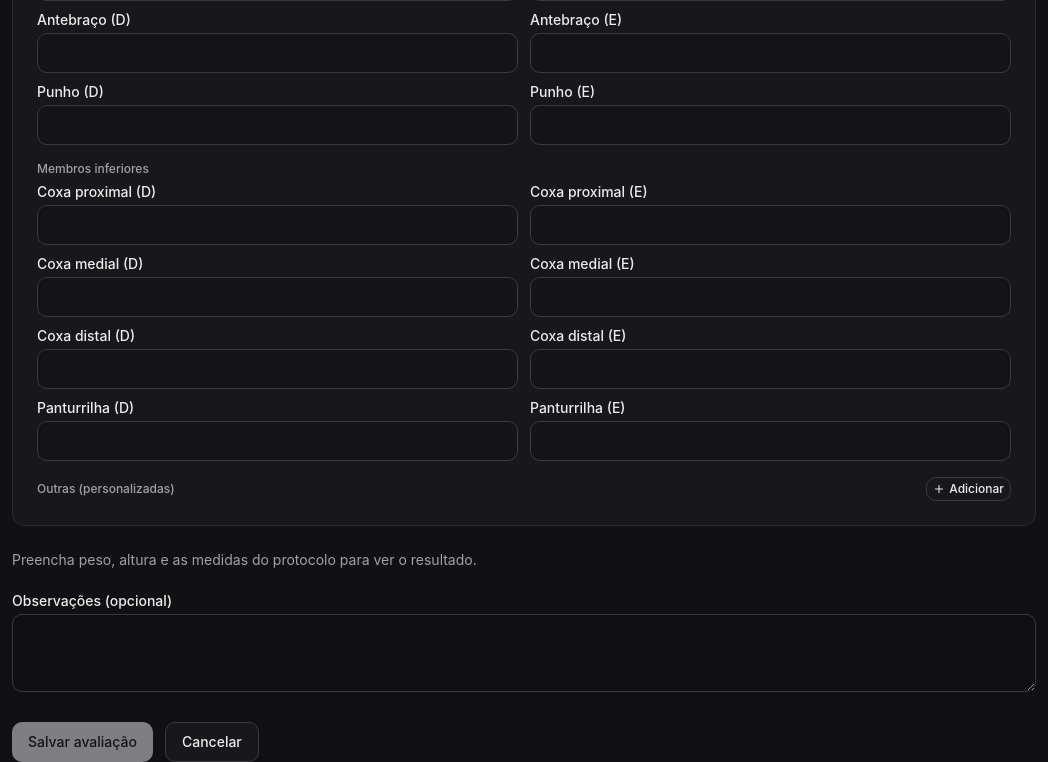
Test: AvaliacaoNova — nomes acessíveis › associa labels aos campos e às dobras
The image size is (1048, 762).
(page scrolled)
Expected: the text box labelled "Observações (opcional)" is shown, [12,614,1036,692]
Click the button "Adicionar" at [969, 489], box [926,477,1011,501]
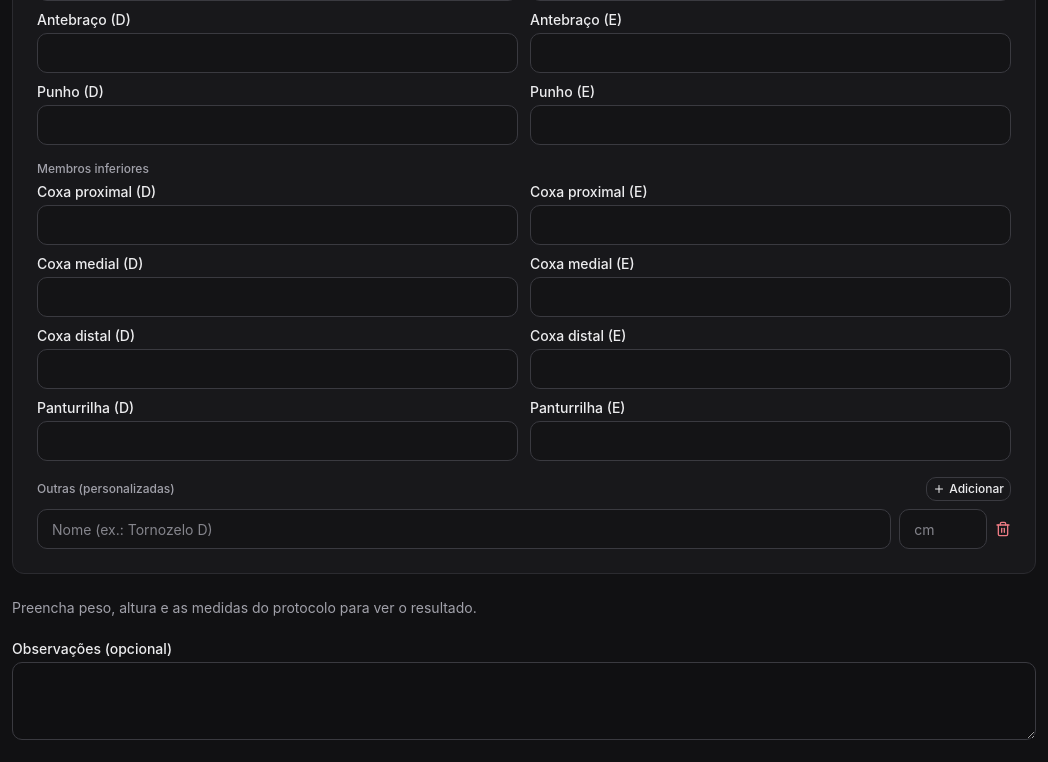
Expected: the field named "Nome da circunferência personalizada 1" is shown, [37,509,891,549]
Expected: the field named "Medida da circunferência personalizada 1 em centímetros" is shown, [899,509,987,549]
